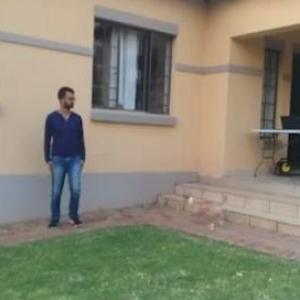follow: (57, 92, 100, 232)
